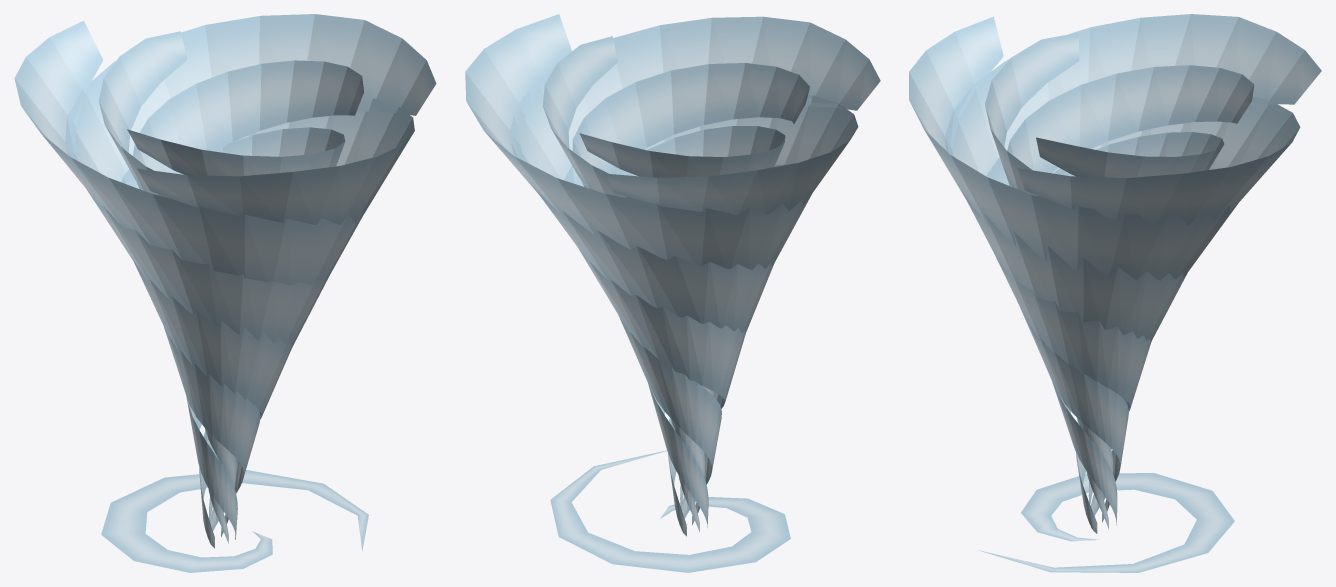
File: wind_tornado.obj
The picture shows the model from 3 angles, left to right: view 1: azimuth 30°, elevation 25°; view 2: azimuth 150°, elevation 25°; view 3: azimuth 270°, elevation 25°; orthographic projection.
Visible parts, largest first — view 1: wind_funnel; view 2: wind_funnel; view 3: wind_funnel.
Boxes of the visible parts, left/top/right/bottom form: wind_funnel: left=14, top=14, right=436, bottom=572; wind_funnel: left=465, top=14, right=880, bottom=572; wind_funnel: left=909, top=14, right=1321, bottom=572.
Size of the model in its own units: 1.66 by 1.99 by 1.68.
